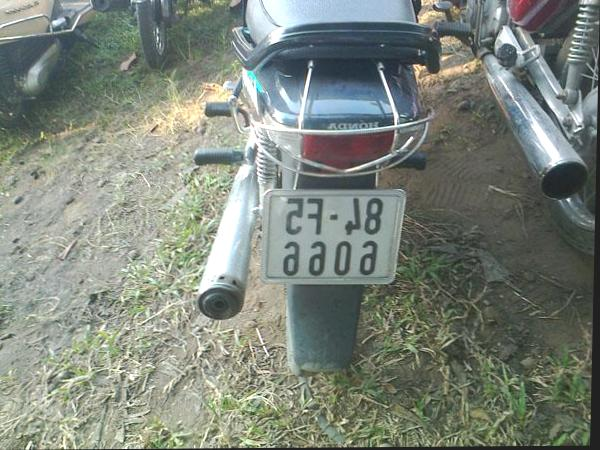License_Plate: (265, 194, 398, 283)
